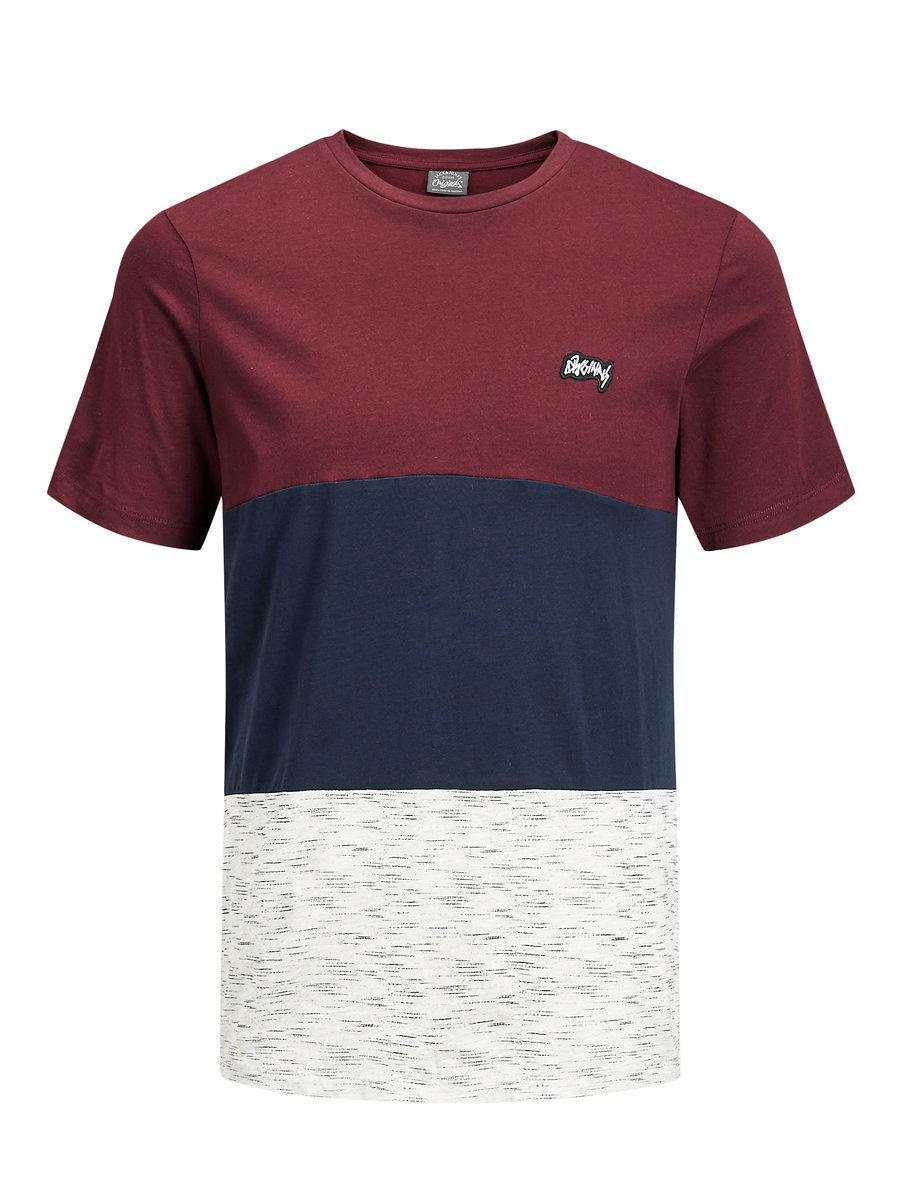teeshirt: (45, 120, 900, 1090)
